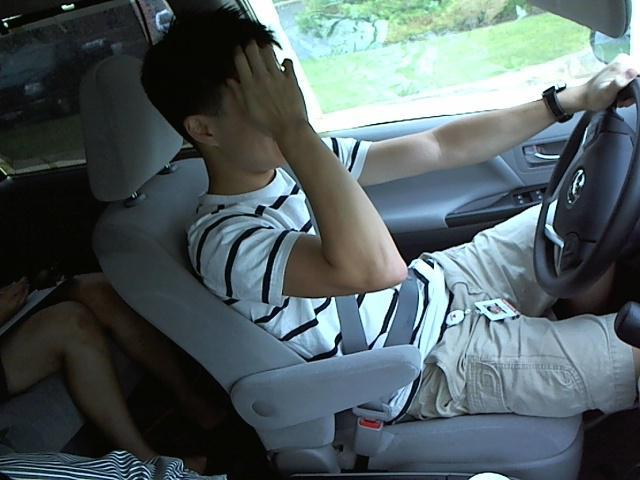c6 - Hair and Makeup: (111, 7, 631, 373)
